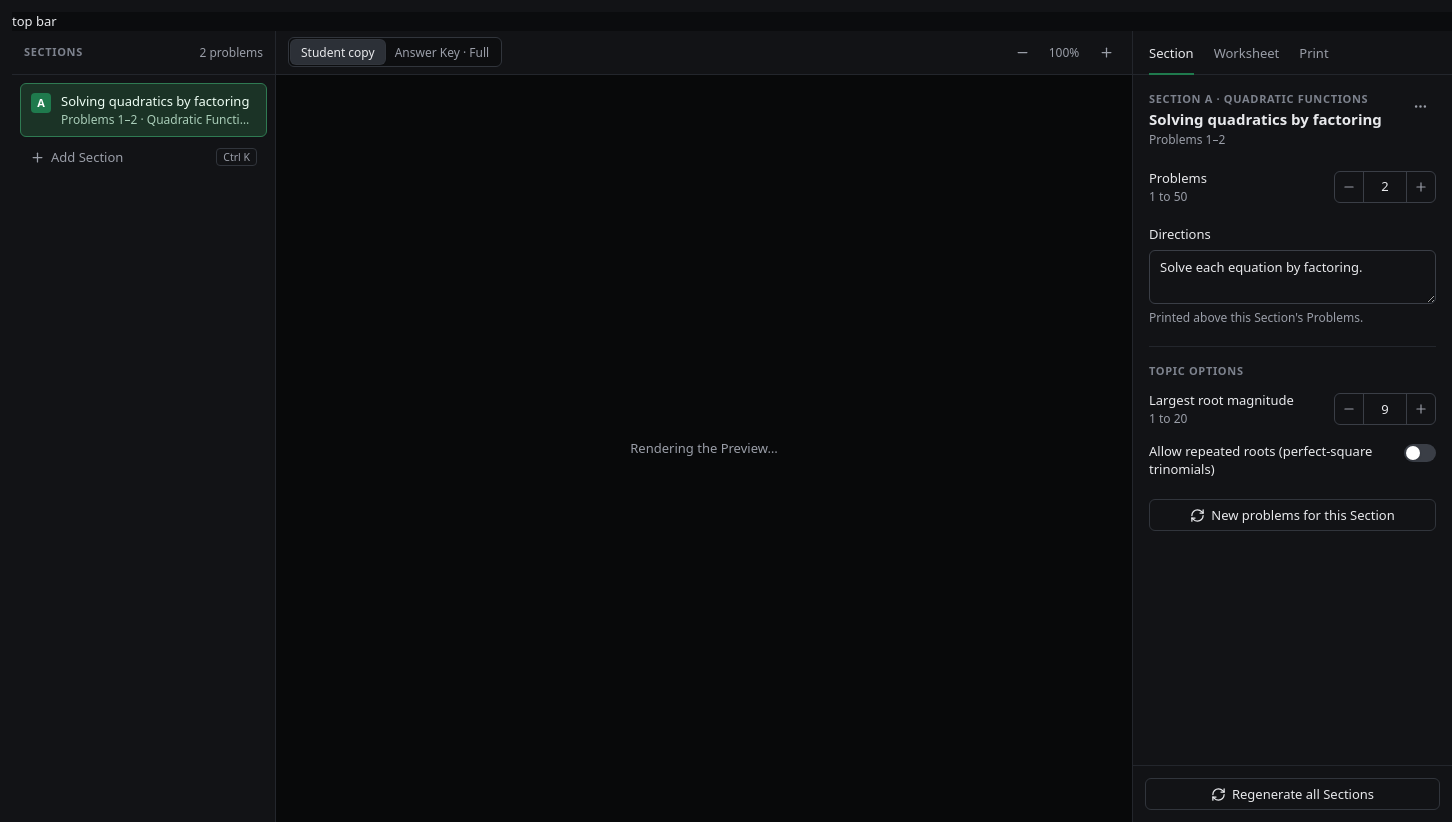
Test: Editor: Worksheet and Print tabs › picks the Answer Key format and describes it
Click the tab "Worksheet" at [1246, 59], box [1214,44,1279,75]
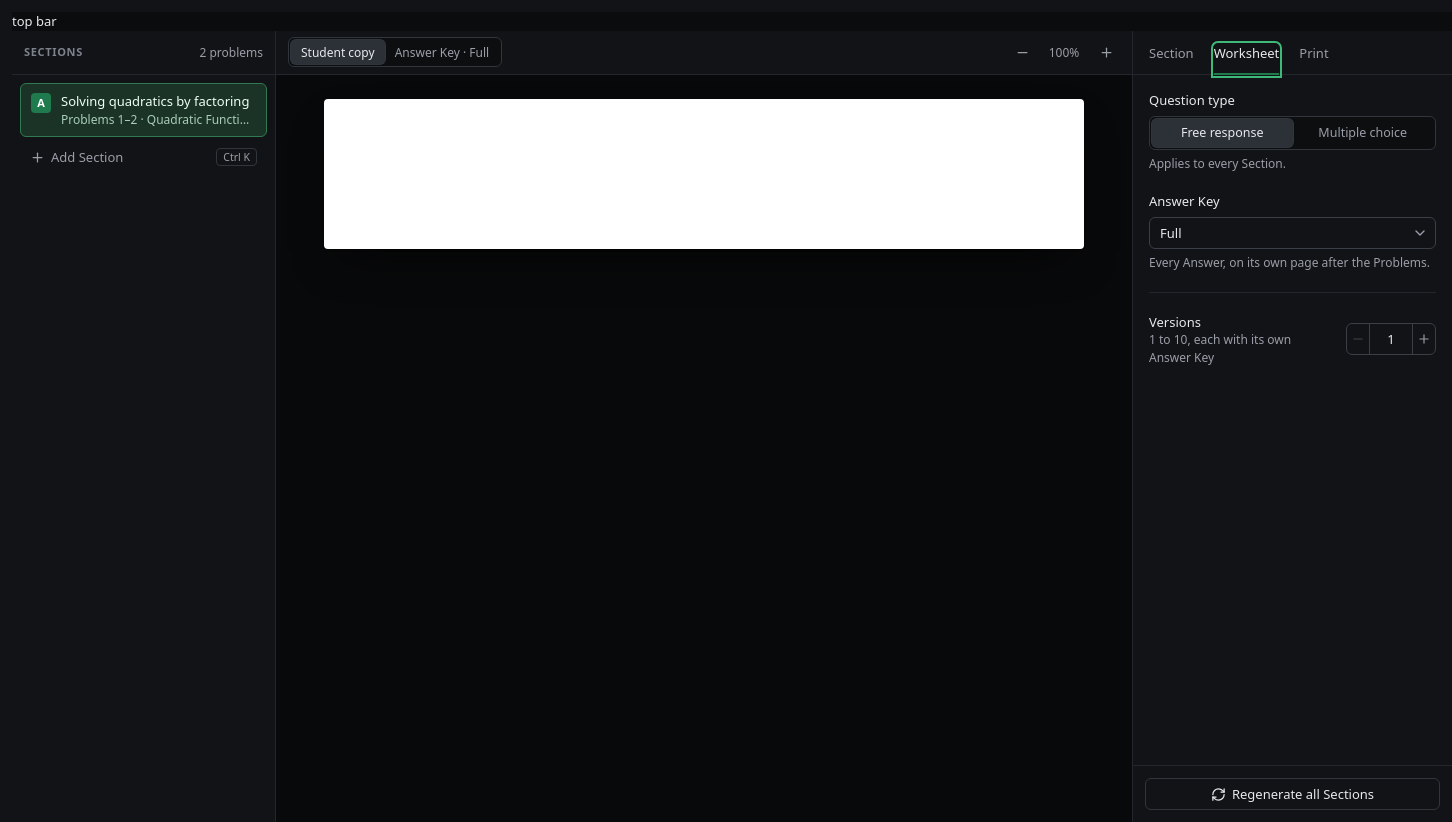
Select "Odd-numbered" in the dropdown labelled "Answer Key" at [1292, 233], box [1149,217,1436,249]
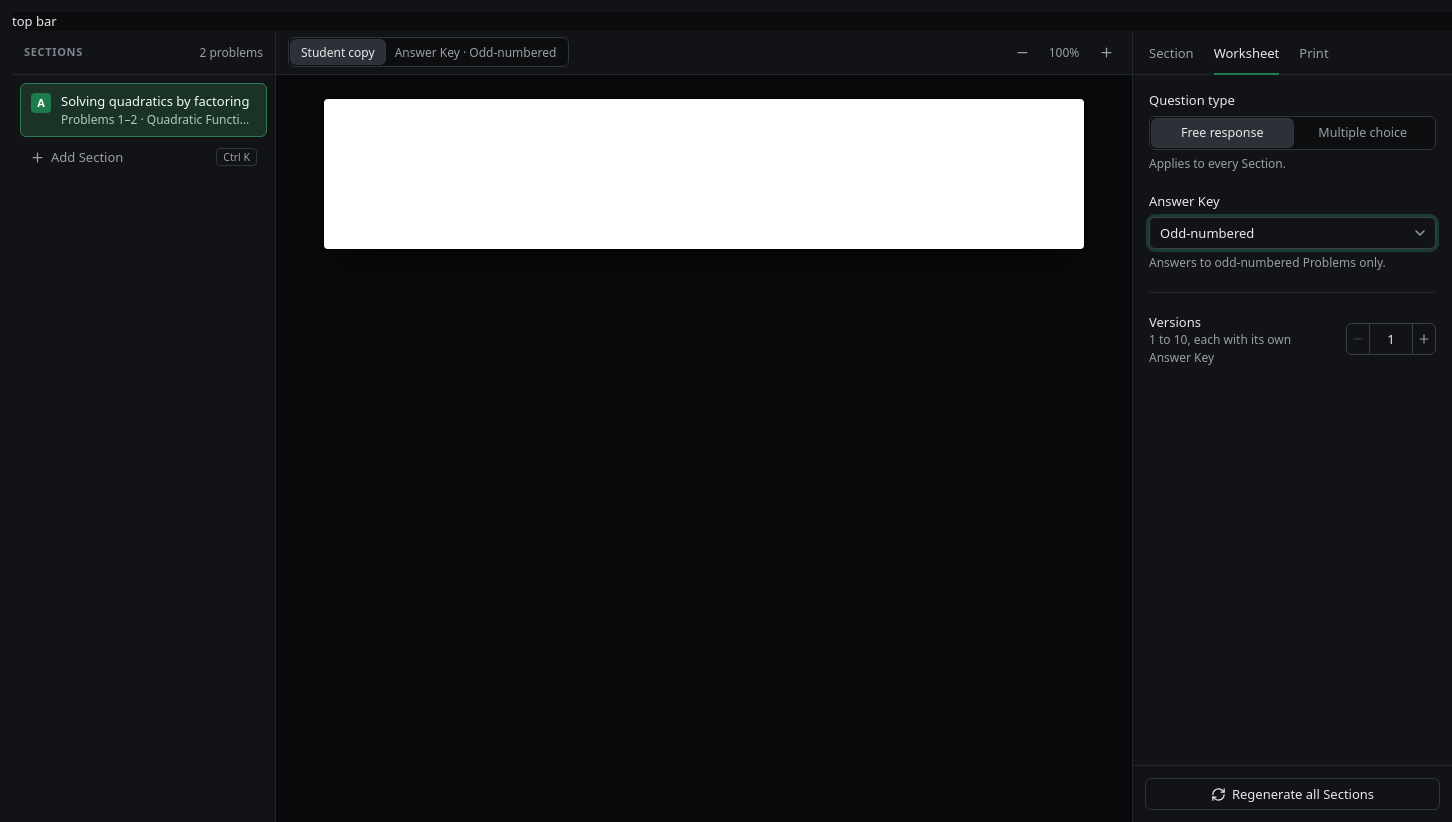
Result: the text "Answers to odd-numbered Problems only." is shown at [1149,254,1386,271]
Result: the radio button labelled "Answer Key · Odd-numbered" is shown at [385,40,566,64]
